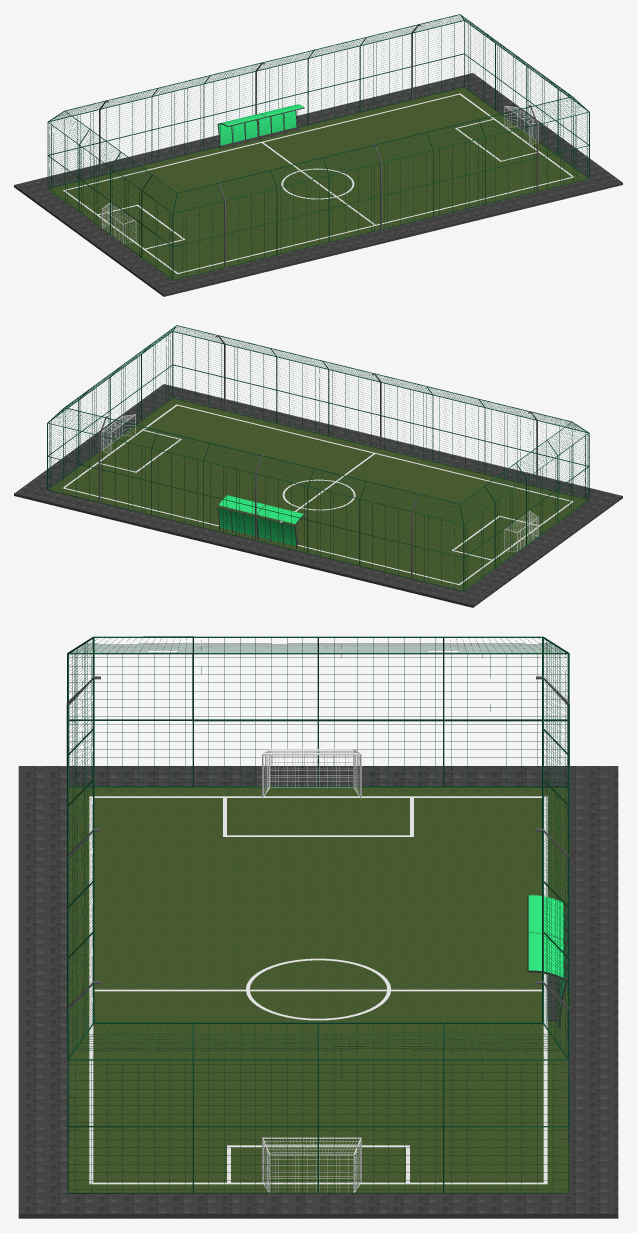
The model's file is mini stadium.fbx.
3 views of the same model, one above another, from view 1: azimuth 30°, elevation 25°; view 2: azimuth 150°, elevation 25°; view 3: azimuth 270°, elevation 25° (orthographic). The views are drawn at different scales.
Visible parts, largest first — view 1: MiniStadion.001, MiniStadion.007, MiniStadion.006, MiniStadion.004, MiniStadion.008, Post, MiniStadion.002, MiniStadion.005; view 2: MiniStadion.001, MiniStadion.007, MiniStadion.006, MiniStadion.004, Post, MiniStadion.008, MiniStadion.002, MiniStadion.005; view 3: MiniStadion.001, MiniStadion.007, MiniStadion.006, MiniStadion.004, MiniStadion.008, MiniStadion.002, Post, MiniStadion.005.
Part boxes in pixels (x1=…): MiniStadion.001: x1=47, y1=87, x2=588, y2=280; MiniStadion.007: x1=14, y1=73, x2=622, y2=296; MiniStadion.006: x1=48, y1=15, x2=588, y2=278; MiniStadion.004: x1=47, y1=14, x2=589, y2=280; MiniStadion.008: x1=63, y1=93, x2=574, y2=273; Post: x1=217, y1=104, x2=304, y2=149; MiniStadion.002: x1=101, y1=105, x2=538, y2=243; MiniStadion.005: x1=99, y1=25, x2=538, y2=267; MiniStadion.001: x1=48, y1=398, x2=589, y2=591; MiniStadion.007: x1=14, y1=384, x2=622, y2=607; MiniStadion.006: x1=48, y1=326, x2=588, y2=589; MiniStadion.004: x1=47, y1=325, x2=589, y2=591; Post: x1=217, y1=495, x2=304, y2=548; MiniStadion.008: x1=62, y1=404, x2=573, y2=585; MiniStadion.002: x1=101, y1=414, x2=538, y2=551; MiniStadion.005: x1=98, y1=336, x2=537, y2=578; MiniStadion.001: x1=67, y1=787, x2=569, y2=1193; MiniStadion.007: x1=18, y1=766, x2=618, y2=1218; MiniStadion.006: x1=68, y1=638, x2=567, y2=1192; MiniStadion.004: x1=67, y1=636, x2=569, y2=1193; MiniStadion.008: x1=89, y1=796, x2=547, y2=1184; MiniStadion.002: x1=262, y1=749, x2=361, y2=1192; Post: x1=527, y1=895, x2=567, y2=1027; MiniStadion.005: x1=66, y1=678, x2=569, y2=1142.
Bounding box in the file's own units: 4324 × 744 × 2445.
Materials: 8 (2 with a texture image).
